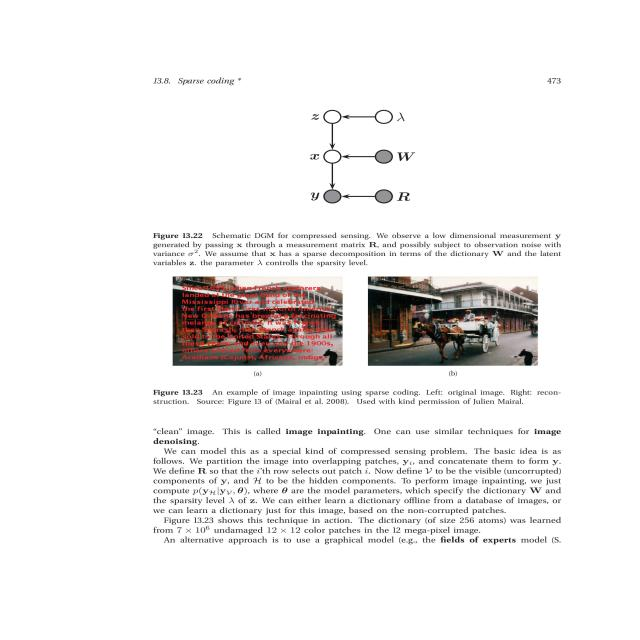diagram: (132, 95, 602, 269), (106, 321, 640, 436)
